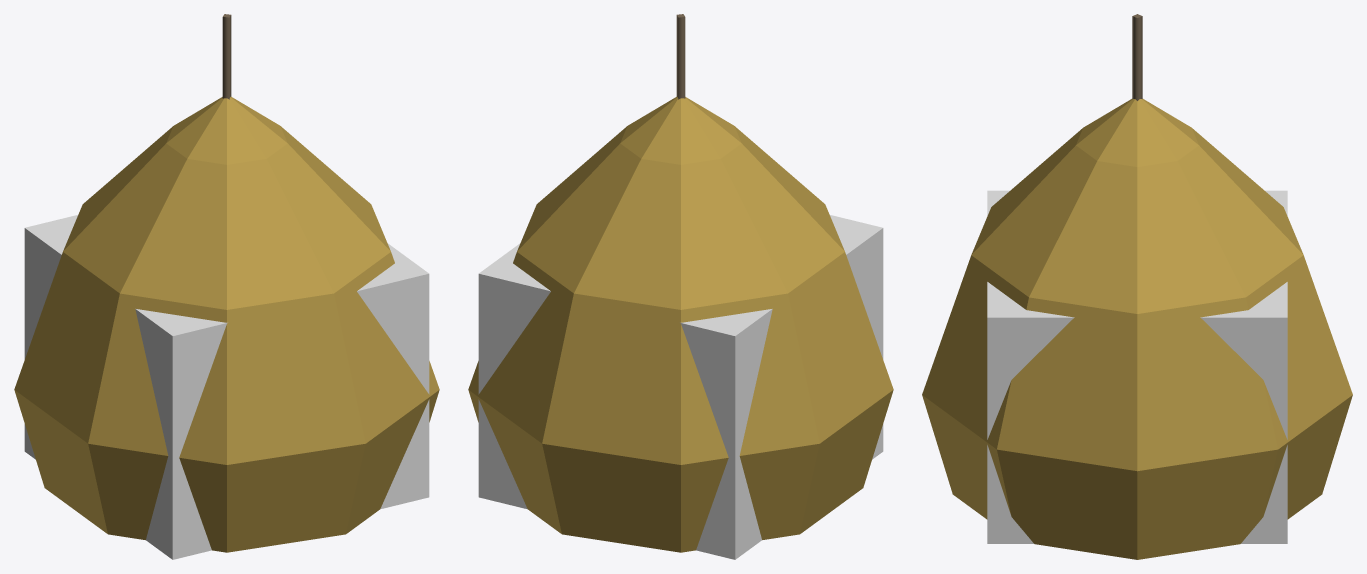
The model's file is izba-stog.glb.
3 views of the same model, side by side, from view 1: azimuth 30°, elevation 25°; view 2: azimuth 150°, elevation 25°; view 3: azimuth 270°, elevation 25° (orthographic).
Parts seen in each view (by area): view 1: 00_#b89a4a, solid, 01_#7a6a56; view 2: 00_#b89a4a, solid, 01_#7a6a56; view 3: 00_#b89a4a, solid, 01_#7a6a56.
Boxes of the visible parts, bbox=[...] form: 00_#b89a4a: bbox=[14, 96, 439, 552]; solid: bbox=[24, 215, 429, 559]; 01_#7a6a56: bbox=[222, 14, 231, 99]; 00_#b89a4a: bbox=[468, 96, 893, 552]; solid: bbox=[478, 215, 883, 559]; 01_#7a6a56: bbox=[676, 14, 685, 99]; 00_#b89a4a: bbox=[922, 99, 1352, 559]; solid: bbox=[987, 190, 1287, 543]; 01_#7a6a56: bbox=[1132, 14, 1142, 100].
Bounding box in the file's own units: 3.39 × 4.1 × 3.45.
